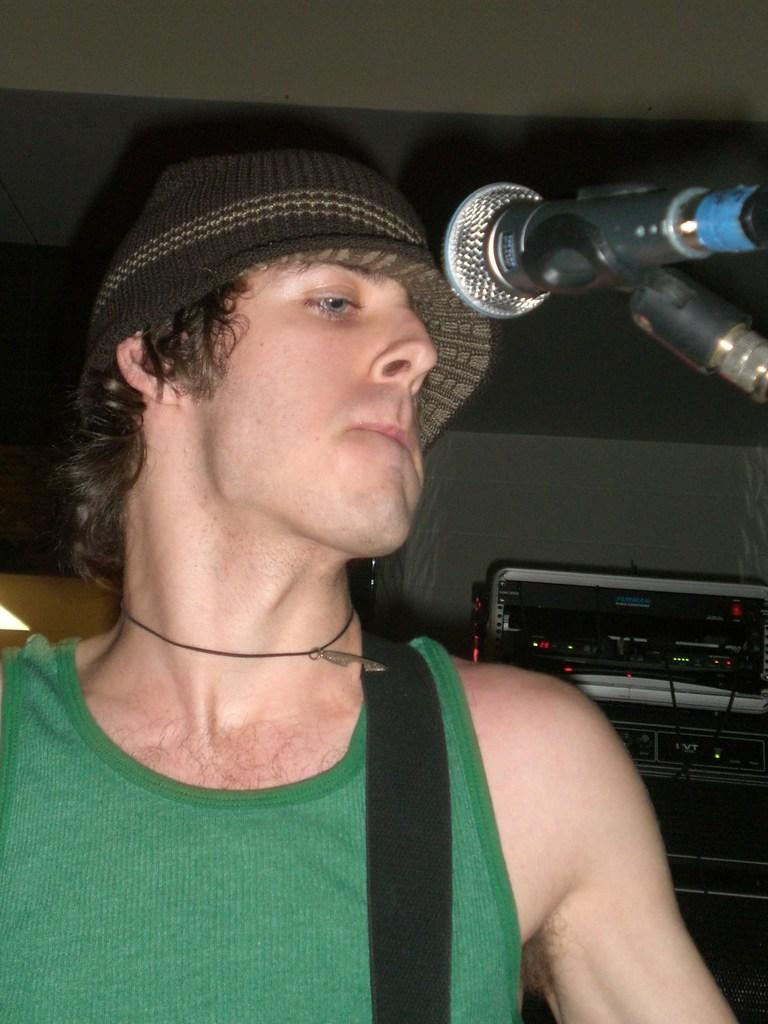Hat: (82, 150, 492, 456)
